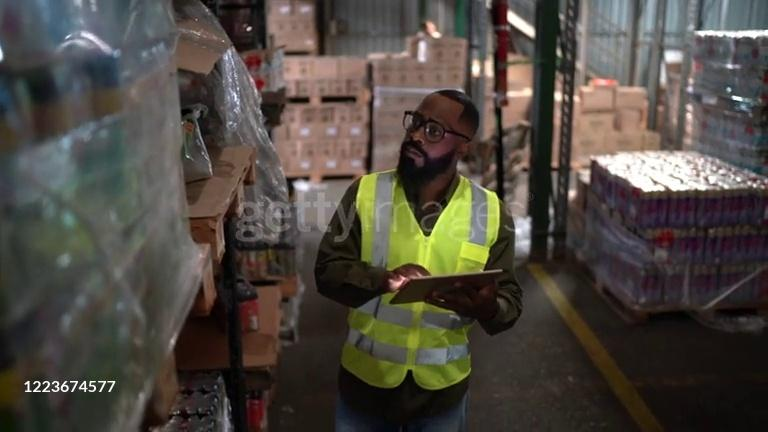person: (313, 90, 526, 432)
